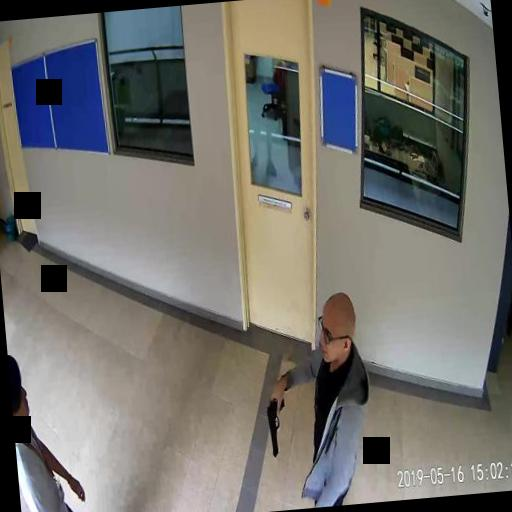Handgun: (264, 388, 288, 456)
